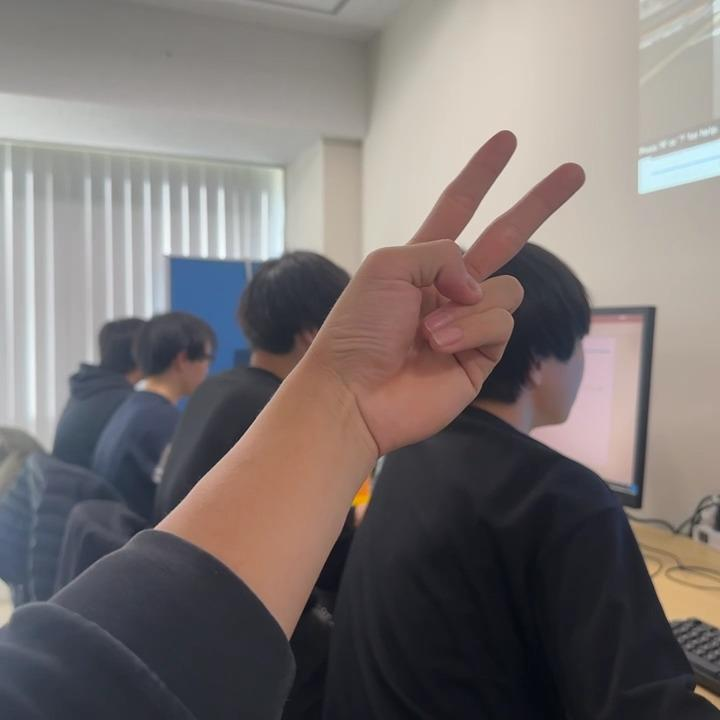without_gloves: (288, 68, 664, 472)
